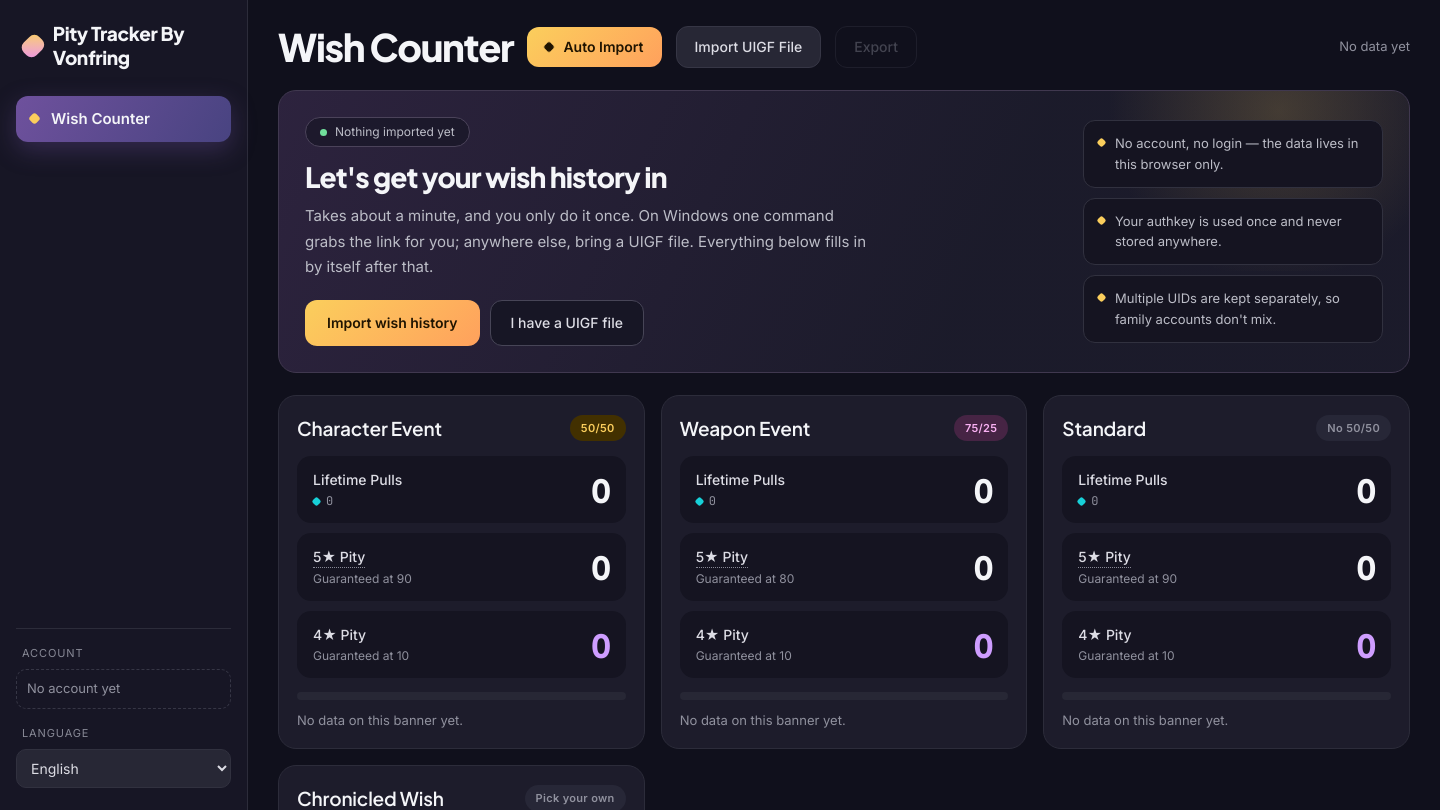
kriteria 19: reload halaman, data masih ada › pengalih bahasa di sidebar mengganti bahasa seluruh halaman
The image size is (1440, 810).
Select "Indonesia" in the dropdown named "Language" at (124,768), box [16,749,231,788]
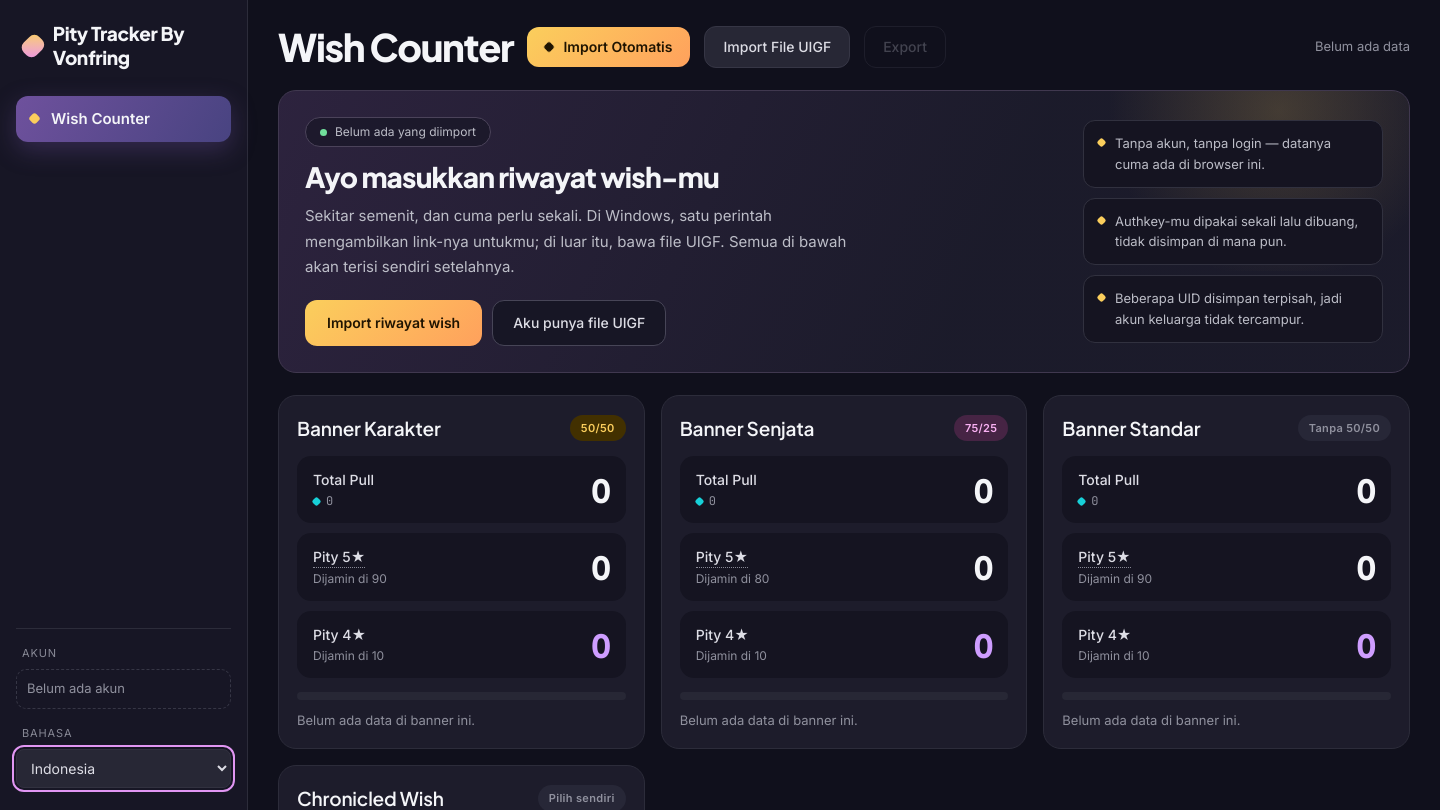
Result: the heading "Ayo masukkan riwayat wish-mu" is shown at [305,159,719,194]
